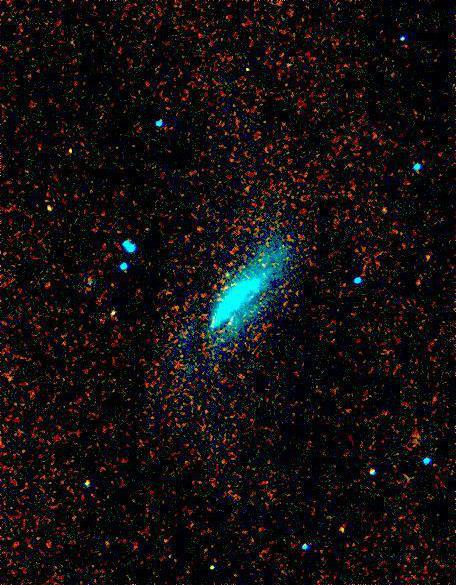star: (370, 200, 400, 230)
